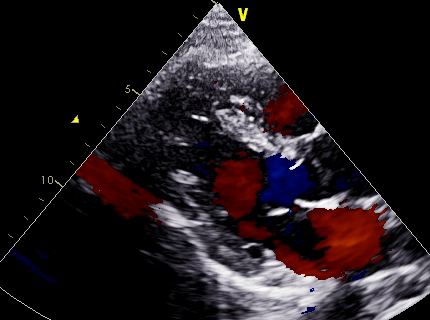AR: (205, 141, 300, 222)
